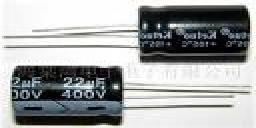Electrolytic-Capacitor: (10, 64, 256, 126), (3, 4, 250, 61)
